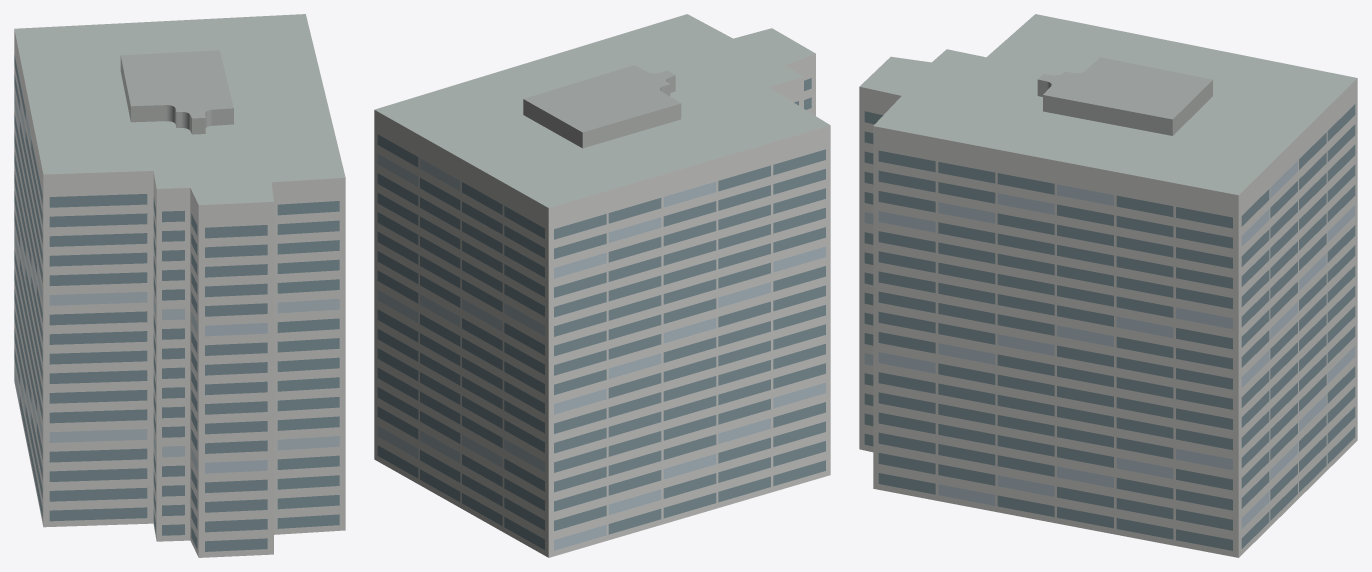
File: apt-a10021638.glb
3 views of the same model, side by side, from view 1: azimuth 30°, elevation 25°; view 2: azimuth 150°, elevation 25°; view 3: azimuth 270°, elevation 25° (orthographic). The views are drawn at different scales.
Visible parts, largest first — view 1: apt-a10021638; view 2: apt-a10021638; view 3: apt-a10021638.
Boxes of the visible parts, x1,y1,x2,y2 form: apt-a10021638: (14, 14, 345, 557); apt-a10021638: (374, 14, 830, 557); apt-a10021638: (859, 14, 1357, 557).
Bounding box in the file's own units: 56.39 × 55 × 65.49.
